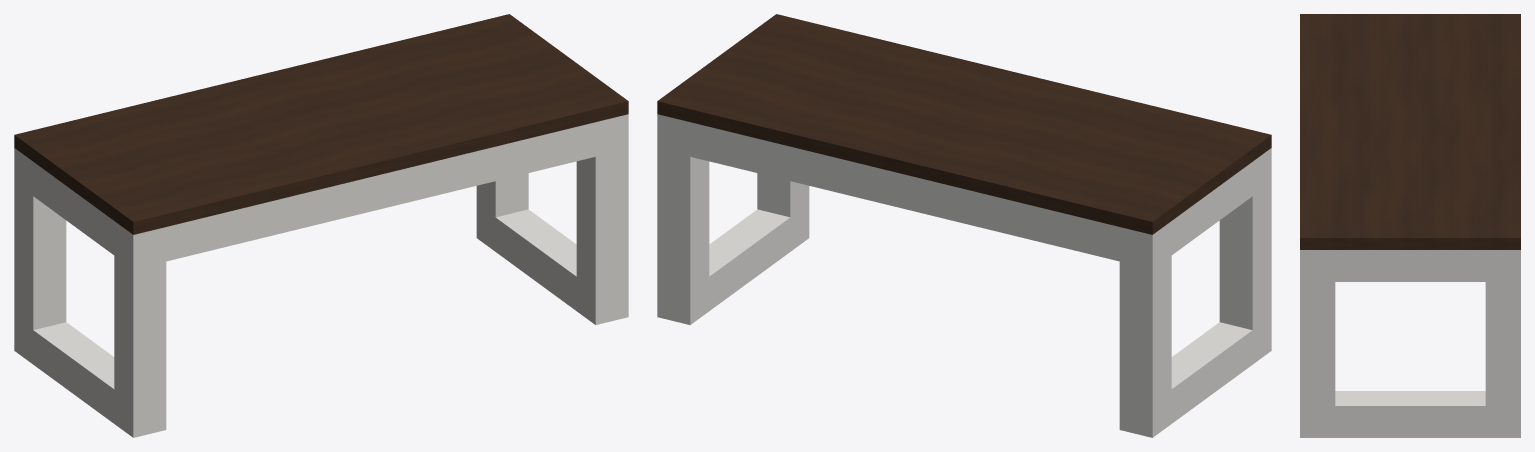
Rendered from mesa-living-nord-ebano-blanco.glb.
3 renders of one model, left to right at view 1: azimuth 30°, elevation 25°; view 2: azimuth 150°, elevation 25°; view 3: azimuth 270°, elevation 25°, orthographic. The views are drawn at different scales.
Visible parts, largest first — view 1: Tapa de madera maciza 120 x 50 cm, Pata recta de hierro 80 x 80 mm (×4), Larguero longitudinal superior recto, Travesaño inferior recto (×2), Travesaño superior recto; view 2: Tapa de madera maciza 120 x 50 cm, Pata recta de hierro 80 x 80 mm (×4), Larguero longitudinal superior recto, Travesaño inferior recto (×2), Travesaño superior recto; view 3: Tapa de madera maciza 120 x 50 cm, Pata recta de hierro 80 x 80 mm (×2), Travesaño inferior recto, Travesaño superior recto.
Boxes of the visible parts, x1=… form: Tapa de madera maciza 120 x 50 cm: x1=14, y1=14, x2=628, y2=234; Pata recta de hierro 80 x 80 mm (×4): x1=14, y1=114, x2=628, y2=437; Larguero longitudinal superior recto: x1=166, y1=122, x2=595, y2=261; Travesaño inferior recto (×2): x1=33, y1=209, x2=576, y2=423; Travesaño superior recto: x1=33, y1=162, x2=114, y2=254; Tapa de madera maciza 120 x 50 cm: x1=657, y1=14, x2=1271, y2=234; Pata recta de hierro 80 x 80 mm (×4): x1=657, y1=114, x2=1271, y2=437; Larguero longitudinal superior recto: x1=690, y1=122, x2=1119, y2=261; Travesaño inferior recto (×2): x1=709, y1=209, x2=1252, y2=423; Travesaño superior recto: x1=1171, y1=162, x2=1252, y2=254; Tapa de madera maciza 120 x 50 cm: x1=1300, y1=14, x2=1520, y2=249; Pata recta de hierro 80 x 80 mm (×2): x1=1300, y1=250, x2=1520, y2=437; Travesaño inferior recto: x1=1335, y1=391, x2=1485, y2=437; Travesaño superior recto: x1=1335, y1=250, x2=1485, y2=281.
Bounding box in the file's own units: 1.2 × 0.5 × 0.5.
Materials: 2 (1 with a texture image).
